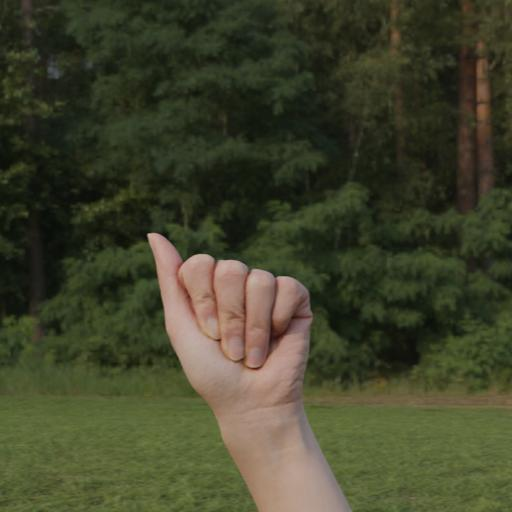A: (119, 222, 348, 484)
